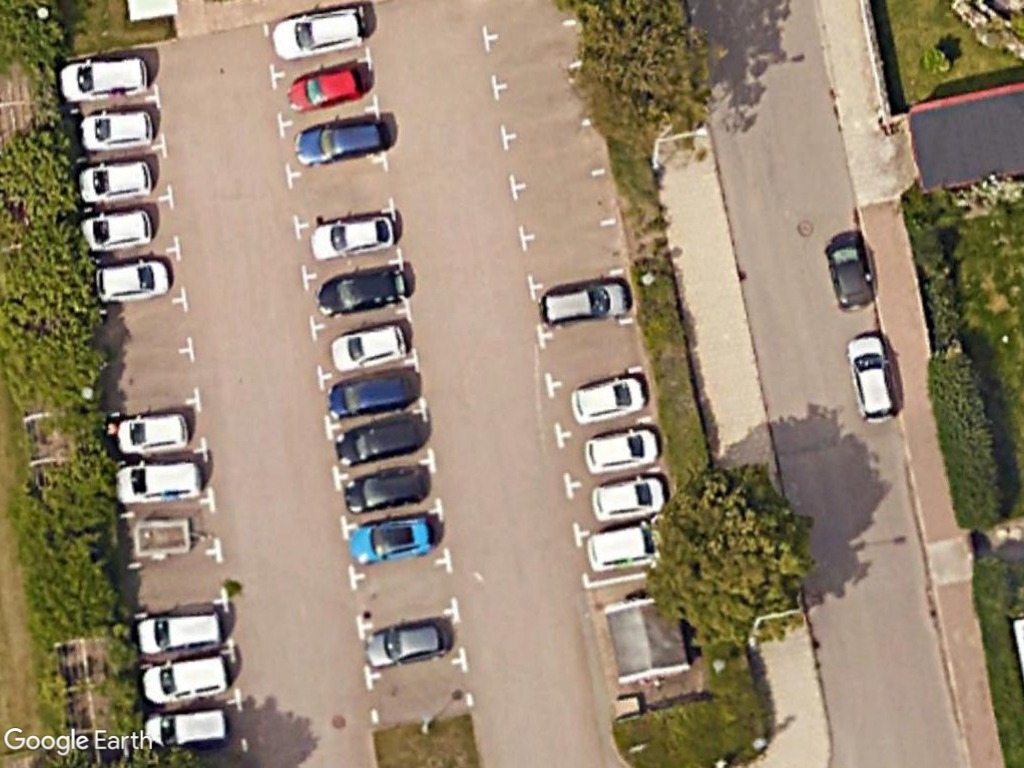car: (344, 509, 444, 570), (293, 113, 393, 173), (315, 261, 413, 322), (268, 5, 370, 61), (332, 408, 428, 466), (844, 331, 901, 428), (140, 646, 237, 703), (340, 459, 432, 518), (109, 453, 207, 508), (57, 52, 152, 107), (326, 367, 420, 422), (307, 207, 396, 264), (133, 604, 230, 656), (362, 615, 452, 671), (324, 318, 412, 375), (538, 276, 634, 328), (568, 371, 650, 430), (72, 154, 158, 208), (139, 708, 236, 752), (286, 61, 363, 116), (78, 203, 159, 255), (823, 236, 877, 313), (78, 104, 162, 153), (112, 408, 191, 455)
